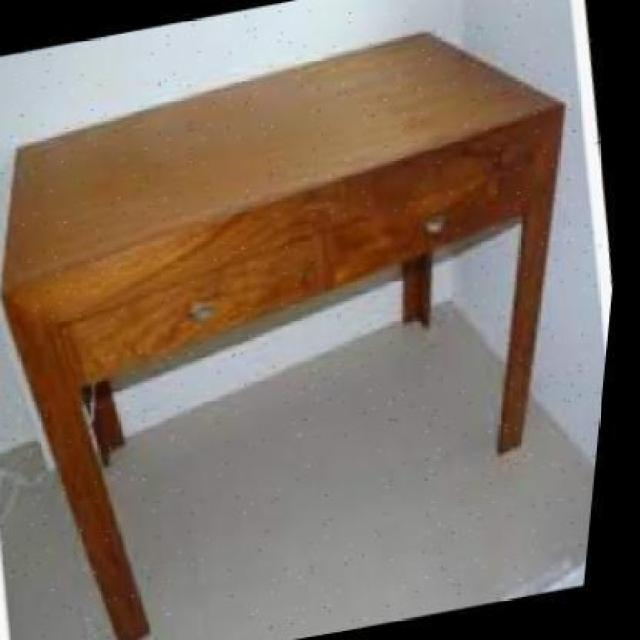tables: (0, 27, 568, 638)
